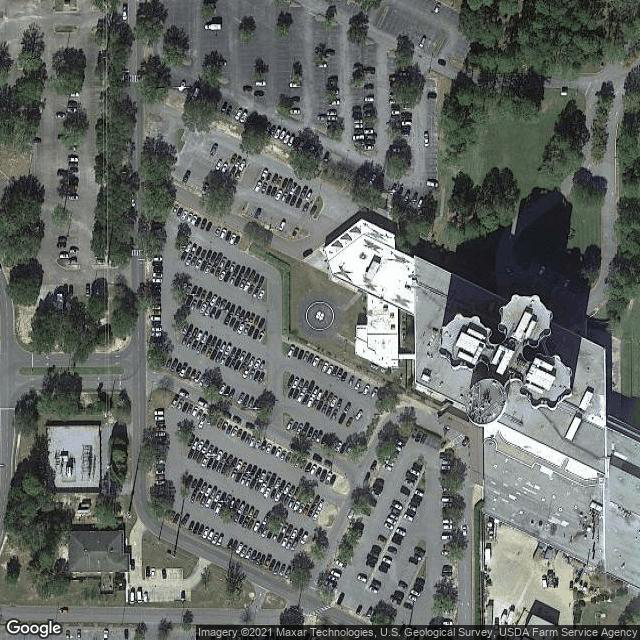Helipad: (305, 299, 336, 333)
